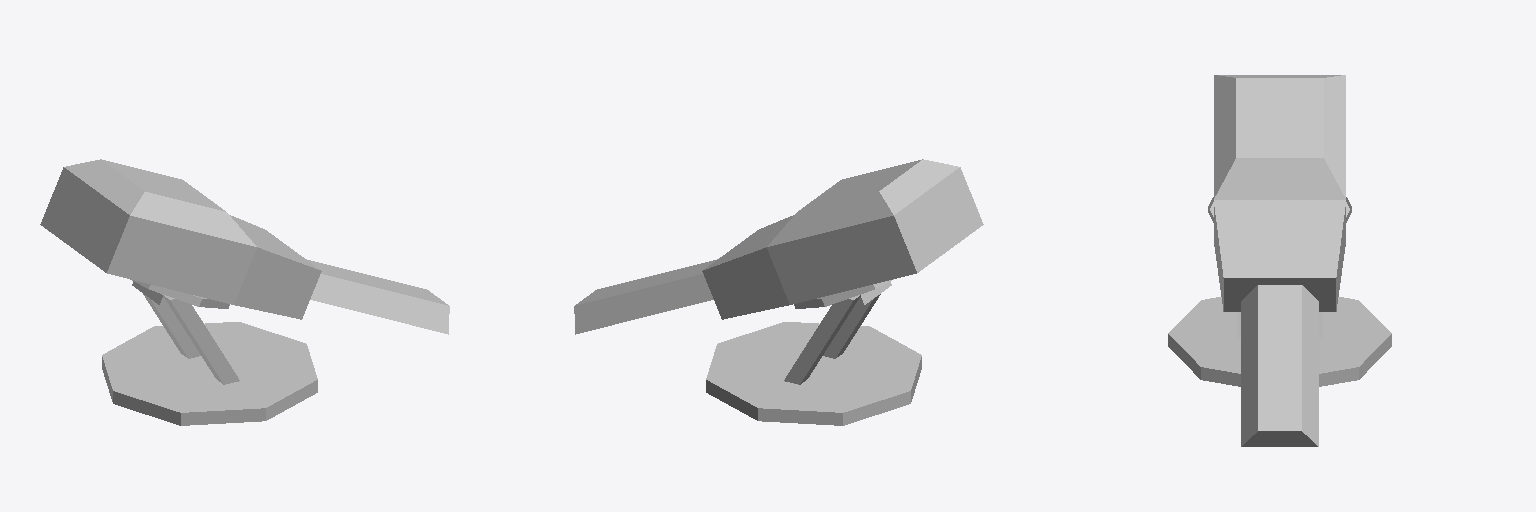
The model's file is turretIdle.obj.
The picture shows the model from 3 angles: view 1: azimuth 30°, elevation 25°; view 2: azimuth 150°, elevation 25°; view 3: azimuth 270°, elevation 25°; orthographic projection.
Visible parts, largest first — view 1: Cube_Cube.003, Cylinder, Cube.001_Cube.002, Cube.003_Cube.005, Cube.002_Cube.004, Cylinder.001; view 2: Cube_Cube.003, Cylinder, Cube.001_Cube.002, Cube.002_Cube.004, Cube.003_Cube.005, Cylinder.001; view 3: Cube_Cube.003, Cube.001_Cube.002, Cylinder.
Boxes of the visible parts, <box> form: Cube_Cube.003: <box>40,159,321,319</box>; Cylinder: <box>102,322,317,425</box>; Cube.001_Cube.002: <box>306,259,449,334</box>; Cube.003_Cube.005: <box>162,294,239,384</box>; Cube.002_Cube.004: <box>143,294,200,358</box>; Cylinder.001: <box>130,279,229,308</box>; Cube_Cube.003: <box>702,159,983,319</box>; Cylinder: <box>706,322,921,425</box>; Cube.001_Cube.002: <box>574,259,717,334</box>; Cube.002_Cube.004: <box>784,294,861,384</box>; Cube.003_Cube.005: <box>823,294,880,358</box>; Cylinder.001: <box>794,279,893,308</box>; Cube_Cube.003: <box>1214,75,1345,311</box>; Cube.001_Cube.002: <box>1241,285,1318,446</box>; Cylinder: <box>1168,297,1391,386</box>.
Bounding box in the file's own units: 2.56 × 1.51 × 1.36.